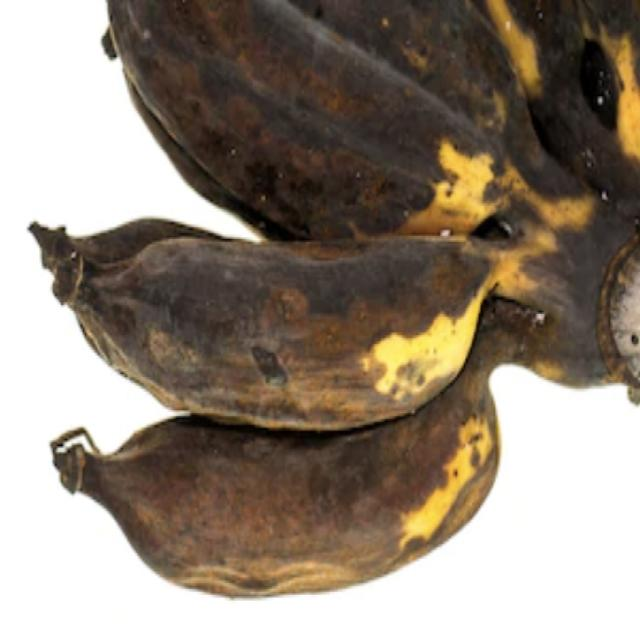rotten-banana: (59, 224, 514, 418), (56, 410, 517, 590), (100, 10, 494, 206)
